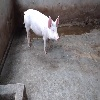heo: (22, 7, 61, 54)
